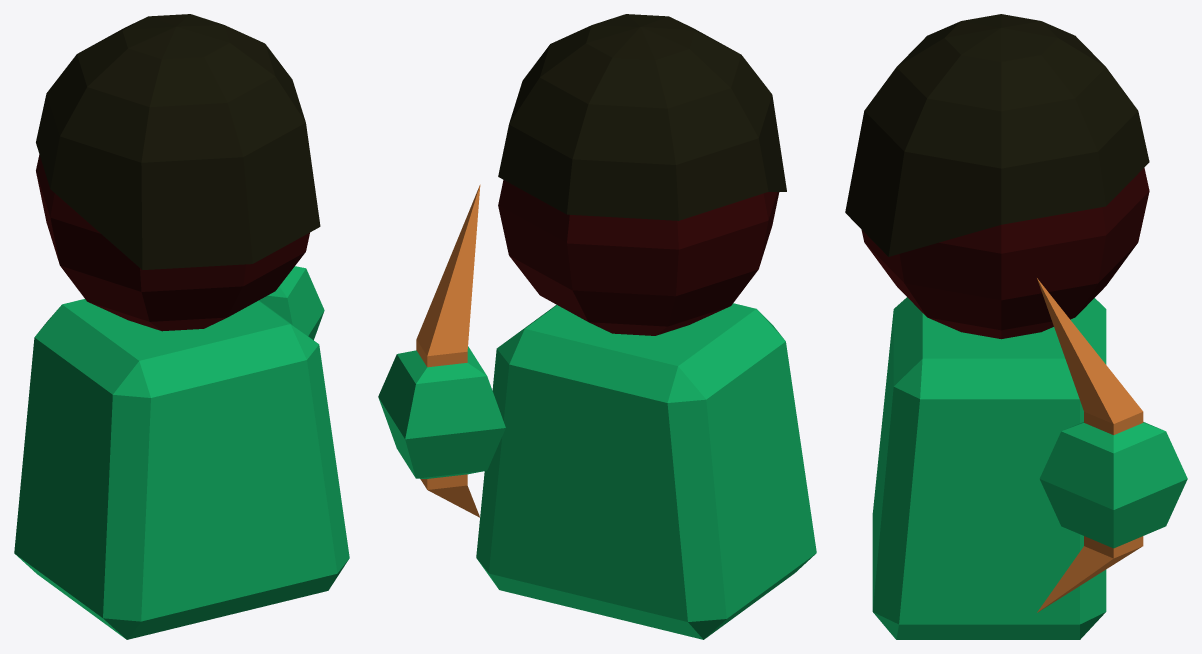
File: Ranger_temp.fbx
3 views of the same model, side by side, from view 1: azimuth 30°, elevation 25°; view 2: azimuth 150°, elevation 25°; view 3: azimuth 270°, elevation 25° (orthographic). The views are drawn at different scales.
Parts seen in each view (by area): view 1: Armor, Hair, Head, Hand; view 2: Armor, Hair, Head, Hand, Bow_obj; view 3: Armor, Hair, Head, Hand, Bow_obj.
Boxes of the visible parts, left/top/right/bottom form: Armor: left=14, top=299, right=349, bottom=639; Hair: left=36, top=14, right=320, bottom=269; Head: left=36, top=154, right=309, bottom=331; Hand: left=259, top=266, right=324, bottom=340; Armor: left=476, top=303, right=816, bottom=639; Hair: left=498, top=14, right=786, bottom=220; Head: left=498, top=180, right=779, bottom=335; Hand: left=378, top=346, right=505, bottom=478; Bow_obj: left=416, top=184, right=480, bottom=517; Armor: left=872, top=297, right=1106, bottom=639; Hair: left=845, top=14, right=1149, bottom=256; Head: left=861, top=167, right=1149, bottom=339; Hand: left=1039, top=422, right=1187, bottom=548; Bow_obj: left=1037, top=278, right=1143, bottom=612.
Size of the model in its own units: 262 by 418 by 231.
